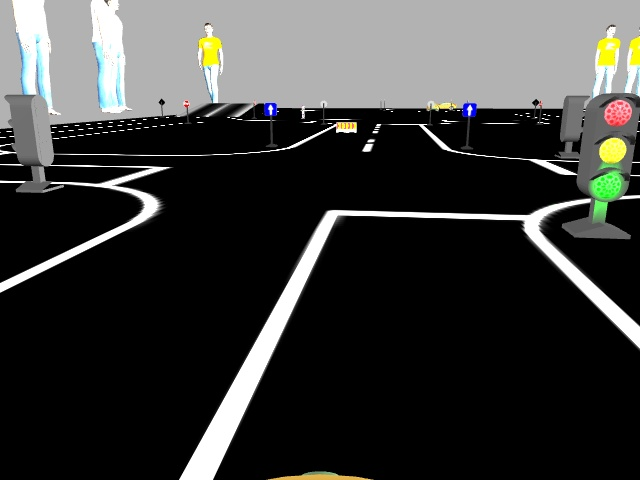ClosedRoadStand: (335, 121, 355, 132)
OneWay: (462, 103, 476, 116), (264, 102, 275, 115)
TrafficLight: (577, 87, 633, 202)
